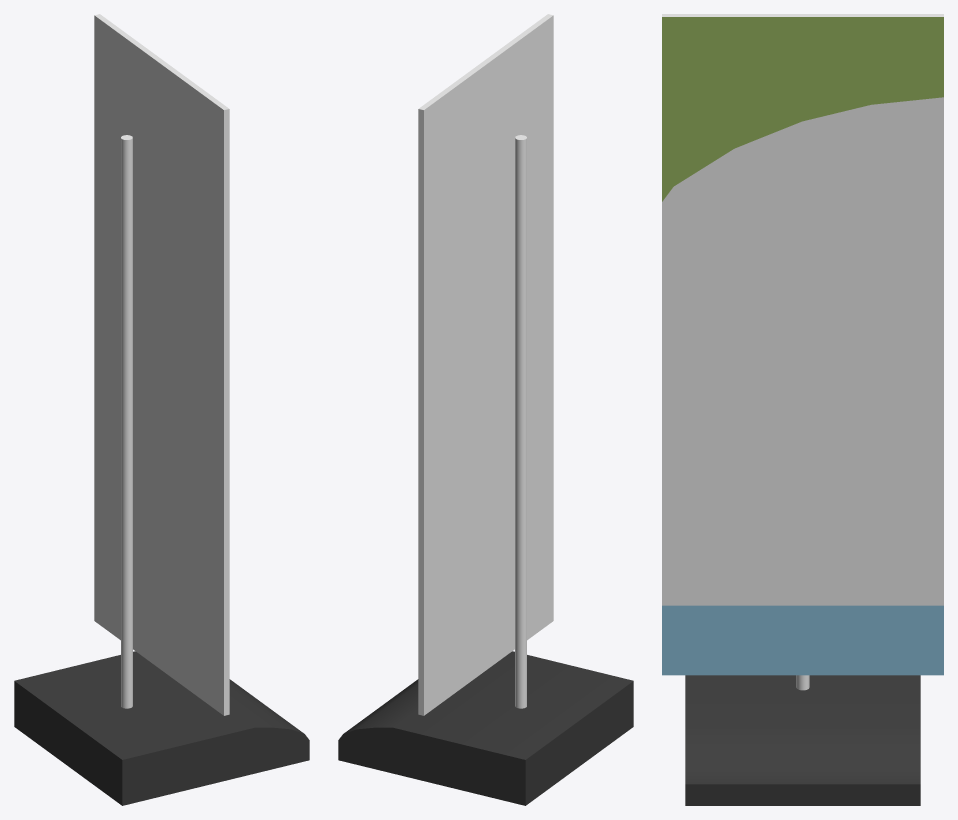
The model's file is pannel2.fbx.
The picture shows the model from 3 angles, left to right: view 1: azimuth 30°, elevation 25°; view 2: azimuth 150°, elevation 25°; view 3: azimuth 270°, elevation 25°; orthographic projection. The views are drawn at different scales.
Parts seen in each view (by area): view 1: Cylinder; view 2: Cylinder; view 3: Cylinder.
Part boxes in pixels (x1,y1,x2,y2): Cylinder: (14,14,309,805); Cylinder: (338,14,633,805); Cylinder: (662,14,943,805).
Size of the model in its own units: 201 by 699 by 241.
1 material, 1 textured.
